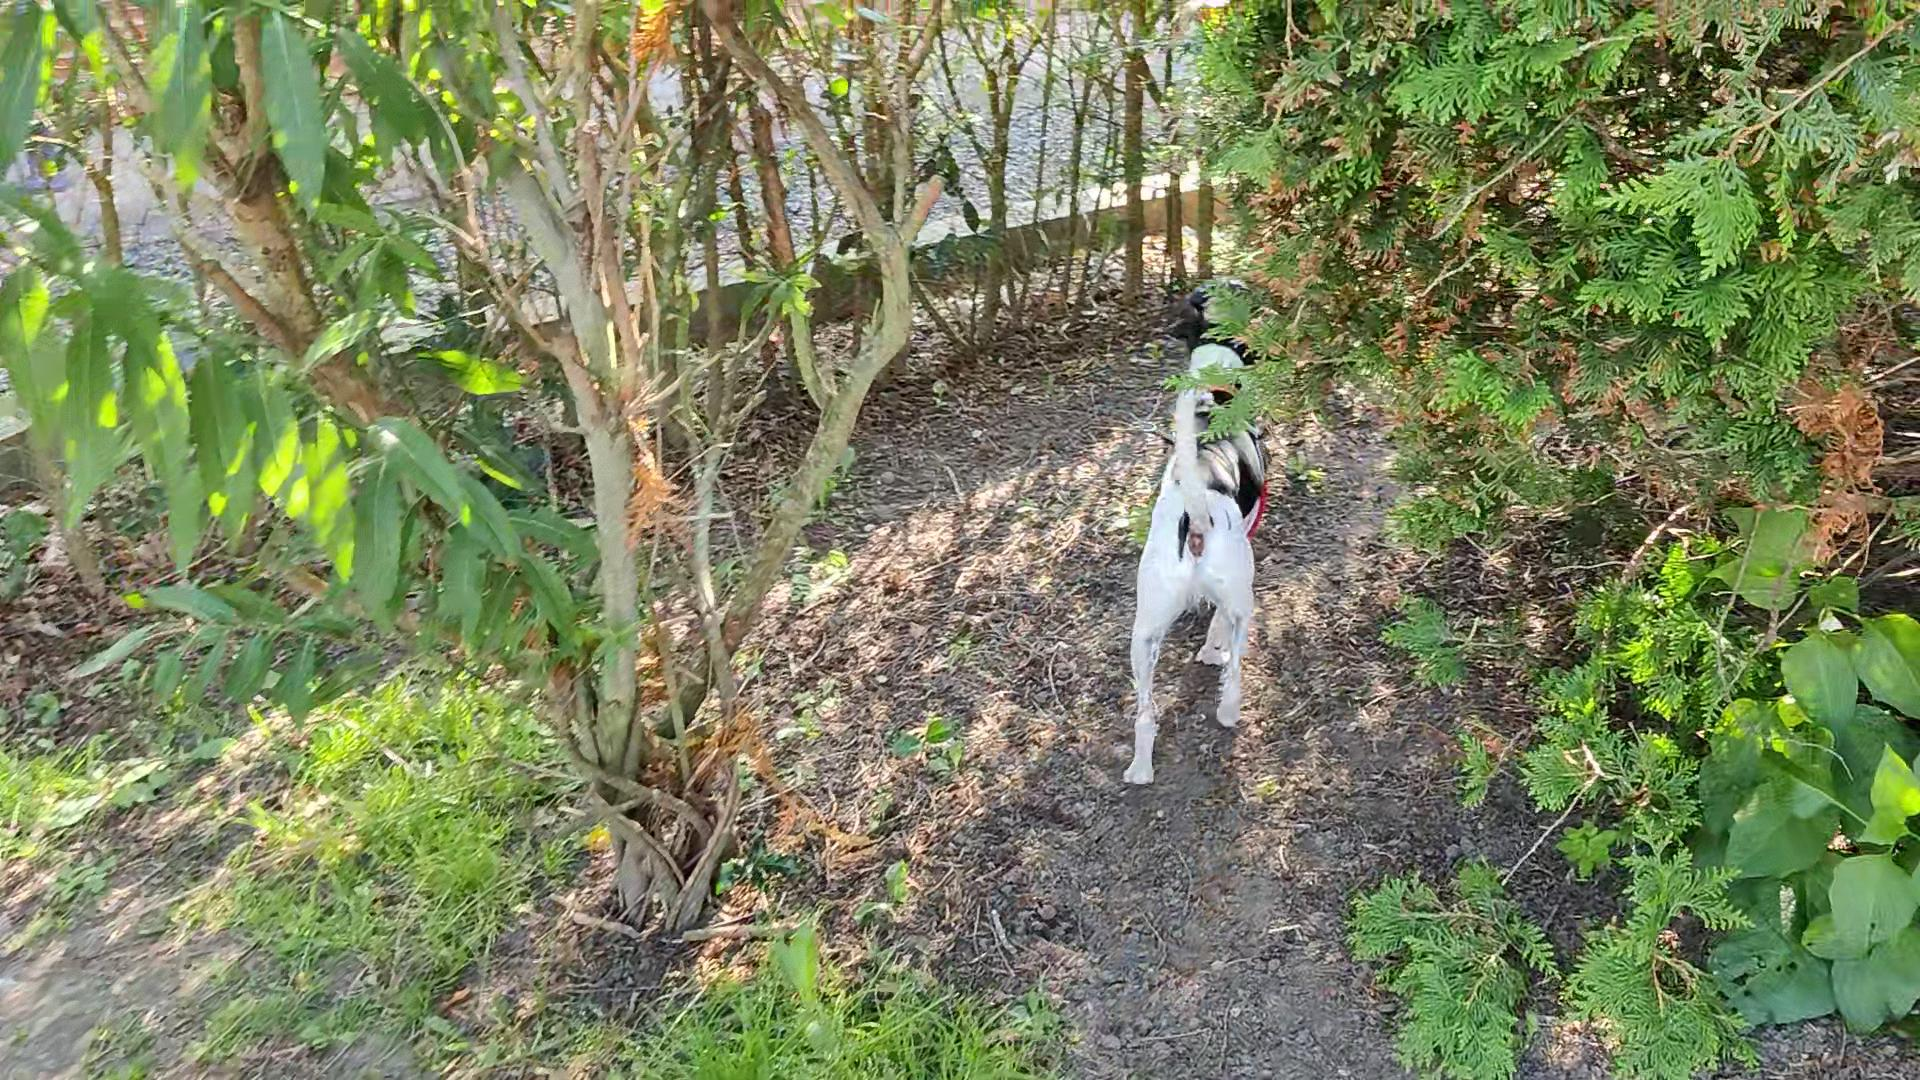Dog: (1079, 265, 1309, 795)
